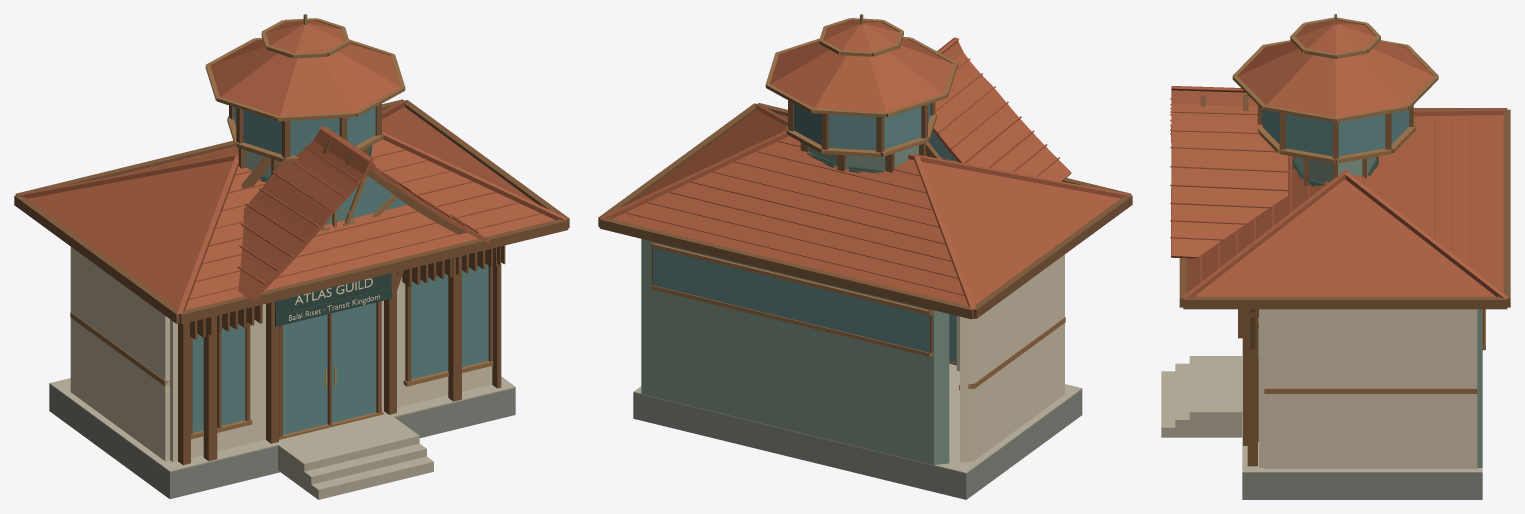
File: atlas-guild.glb
3 renders of one model, left to right at view 1: azimuth 30°, elevation 25°; view 2: azimuth 150°, elevation 25°; view 3: azimuth 270°, elevation 25°, orthographic. The views are drawn at different scales.
Visible parts, largest first — view 1: Guild delivery 8 / S2A / terracotta 1, Guild delivery 3 / C1 / oiled timber, Guild delivery 5 / Guild / stylized blue-green glazing, Guild delivery 0 / S2A / warm lime plaster, Guild delivery 6 / S2A / terracotta 2, Guild delivery 15 / C1 / warm limestone, Guild delivery 14 / C1 / warm volcanic stone, Guild delivery 9 / S2A / terracotta 3, Guild delivery 2 / S2A / cut timber edges, Guild delivery 4 / C1 / deep green metal, Guild delivery 13 / C1 / sign lettering; view 2: Guild delivery 8 / S2A / terracotta 1, Guild delivery 1 / S2A / recessed sage plaster, Guild delivery 5 / Guild / stylized blue-green glazing, Guild delivery 0 / S2A / warm lime plaster, Guild delivery 6 / S2A / terracotta 2, Guild delivery 14 / C1 / warm volcanic stone, Guild delivery 3 / C1 / oiled timber, Guild delivery 2 / S2A / cut timber edges, Guild delivery 9 / S2A / terracotta 3, Guild delivery 15 / C1 / warm limestone, Guild delivery 11 / S2A / terracotta 0, Guild delivery 10 / S2A / terracotta 4; view 3: Guild delivery 8 / S2A / terracotta 1, Guild delivery 0 / S2A / warm lime plaster, Guild delivery 9 / S2A / terracotta 3, Guild delivery 6 / S2A / terracotta 2, Guild delivery 3 / C1 / oiled timber, Guild delivery 15 / C1 / warm limestone, Guild delivery 14 / C1 / warm volcanic stone, Guild delivery 2 / S2A / cut timber edges, Guild delivery 5 / Guild / stylized blue-green glazing, Guild delivery 1 / S2A / recessed sage plaster, Guild delivery 11 / S2A / terracotta 0, Guild delivery 10 / S2A / terracotta 4.
Boxes of the visible parts, left/top/right/bottom form: Guild delivery 8 / S2A / terracotta 1: left=27, top=107, right=554, bottom=323; Guild delivery 3 / C1 / oiled timber: left=14, top=99, right=569, bottom=465; Guild delivery 5 / Guild / stylized blue-green glazing: left=192, top=107, right=488, bottom=434; Guild delivery 0 / S2A / warm lime plaster: left=70, top=247, right=492, bottom=462; Guild delivery 6 / S2A / terracotta 2: left=141, top=20, right=518, bottom=281; Guild delivery 15 / C1 / warm limestone: left=49, top=376, right=515, bottom=499; Guild delivery 14 / C1 / warm volcanic stone: left=49, top=384, right=515, bottom=498; Guild delivery 9 / S2A / terracotta 3: left=17, top=100, right=566, bottom=315; Guild delivery 2 / S2A / cut timber edges: left=70, top=18, right=493, bottom=439; Guild delivery 4 / C1 / deep green metal: left=260, top=145, right=391, bottom=326; Guild delivery 13 / C1 / sign lettering: left=289, top=278, right=379, bottom=320; Guild delivery 8 / S2A / terracotta 1: left=612, top=37, right=1119, bottom=318; Guild delivery 1 / S2A / recessed sage plaster: left=641, top=145, right=949, bottom=464; Guild delivery 5 / Guild / stylized blue-green glazing: left=653, top=103, right=957, bottom=362; Guild delivery 0 / S2A / warm lime plaster: left=956, top=254, right=1064, bottom=462; Guild delivery 6 / S2A / terracotta 2: left=647, top=20, right=1047, bottom=278; Guild delivery 14 / C1 / warm volcanic stone: left=633, top=389, right=1082, bottom=499; Guild delivery 3 / C1 / oiled timber: left=598, top=100, right=1132, bottom=357; Guild delivery 2 / S2A / cut timber edges: left=651, top=18, right=1065, bottom=390; Guild delivery 9 / S2A / terracotta 3: left=600, top=37, right=1129, bottom=310; Guild delivery 15 / C1 / warm limestone: left=633, top=363, right=1082, bottom=473; Guild delivery 11 / S2A / terracotta 0: left=690, top=116, right=1021, bottom=244; Guild delivery 10 / S2A / terracotta 4: left=712, top=101, right=1008, bottom=227; Guild delivery 8 / S2A / terracotta 1: left=1170, top=86, right=1503, bottom=296; Guild delivery 0 / S2A / warm lime plaster: left=1259, top=309, right=1477, bottom=468; Guild delivery 9 / S2A / terracotta 3: left=1170, top=86, right=1508, bottom=300; Guild delivery 6 / S2A / terracotta 2: left=1170, top=20, right=1471, bottom=268; Guild delivery 3 / C1 / oiled timber: left=1179, top=95, right=1510, bottom=466; Guild delivery 15 / C1 / warm limestone: left=1161, top=327, right=1482, bottom=472; Guild delivery 14 / C1 / warm volcanic stone: left=1242, top=473, right=1482, bottom=499; Guild delivery 2 / S2A / cut timber edges: left=1232, top=17, right=1485, bottom=441; Guild delivery 5 / Guild / stylized blue-green glazing: left=1258, top=109, right=1409, bottom=436; Guild delivery 1 / S2A / recessed sage plaster: left=1295, top=157, right=1482, bottom=467; Guild delivery 11 / S2A / terracotta 0: left=1170, top=116, right=1435, bottom=240; Guild delivery 10 / S2A / terracotta 4: left=1170, top=114, right=1417, bottom=226.
Size of the model in its own units: 9.52 by 9.39 by 7.34.
